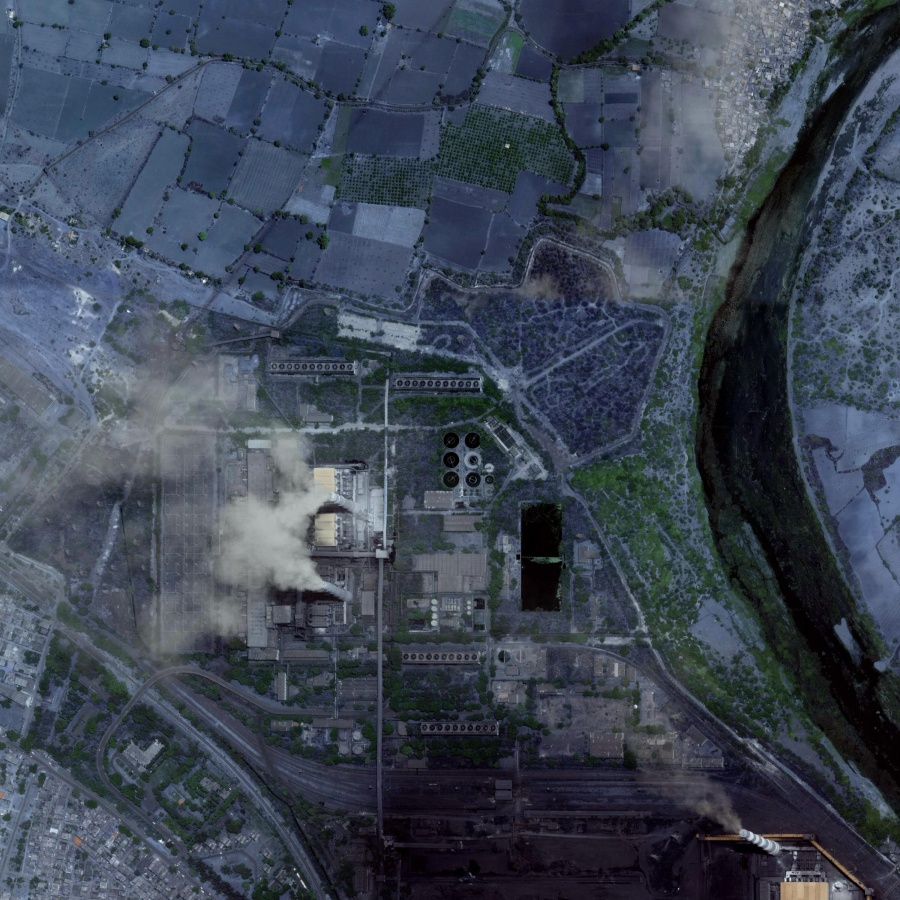PowerPlant: (163, 352, 435, 672)
